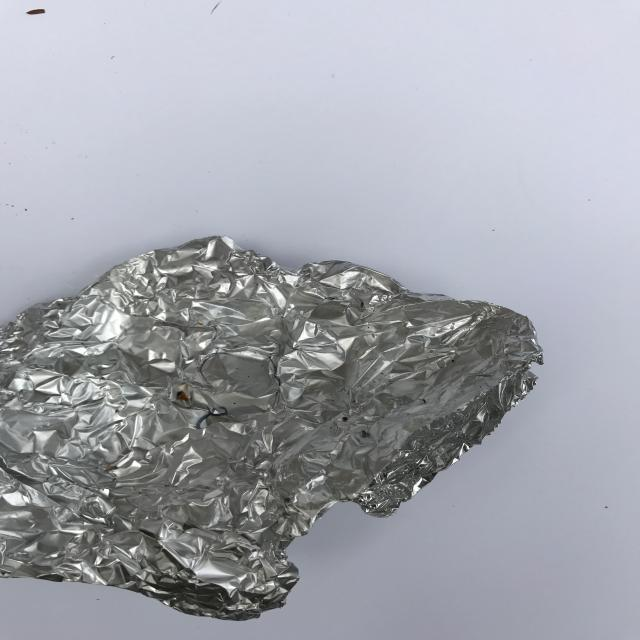metal: (0, 234, 545, 621)
